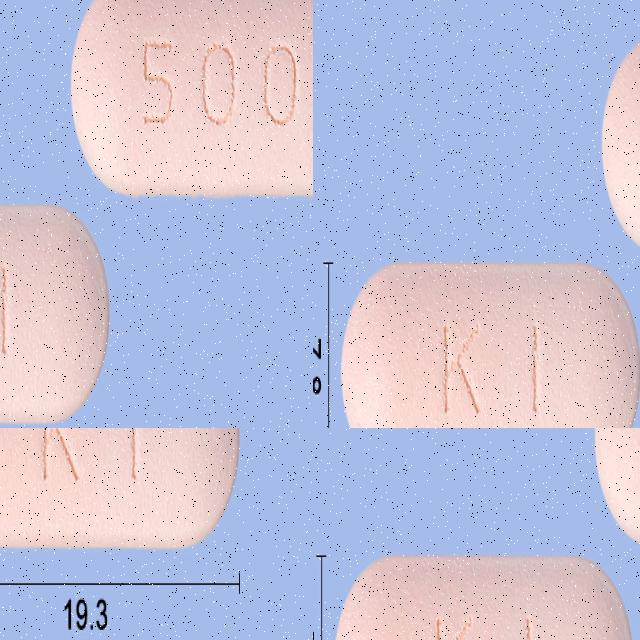Levogun -250mg: (333, 552, 633, 640)
Levotra: (0, 246, 111, 428)
Qsymia Cap-7-5mg: (340, 285, 640, 428), (566, 32, 640, 226)
Wooridul Ciprofloxacin Tab: (0, 428, 313, 640)
